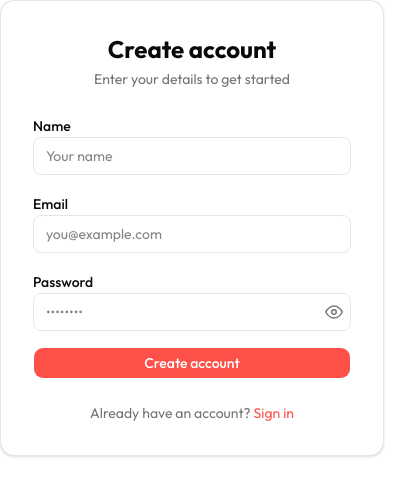
Test case: RegisterForm › shows Zod validation error for short password
The image size is (401, 502).
In the field labelled "Name": (192, 156) top-left (33, 137), bottom-right (351, 175), type "Tim"
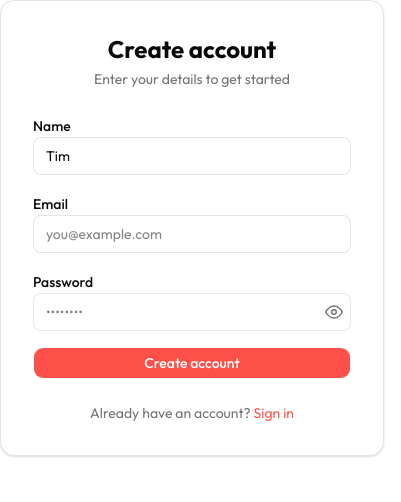
In the field labelled "Email": (192, 234) top-left (33, 215), bottom-right (351, 253), type "tim@test.com"
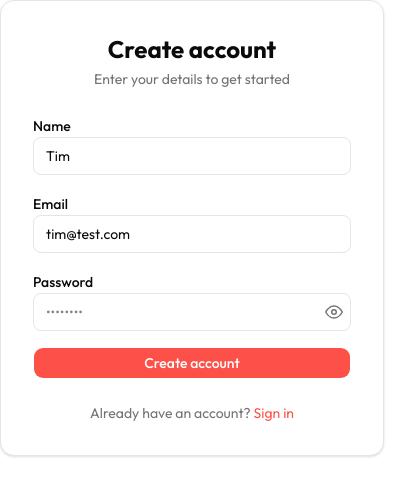
In the password field labelled "Password": (192, 312) top-left (33, 293), bottom-right (351, 331), type "12345"
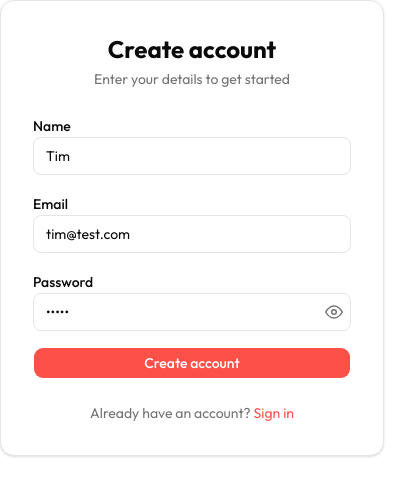
Submit the form "Name Email Password Create account", box top-left (33, 113), bottom-right (351, 379)
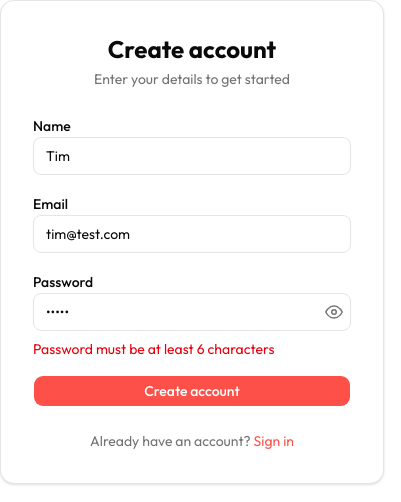
Check: the text "Password must be at least 6 characters" is shown, box top-left (33, 340), bottom-right (274, 358)
